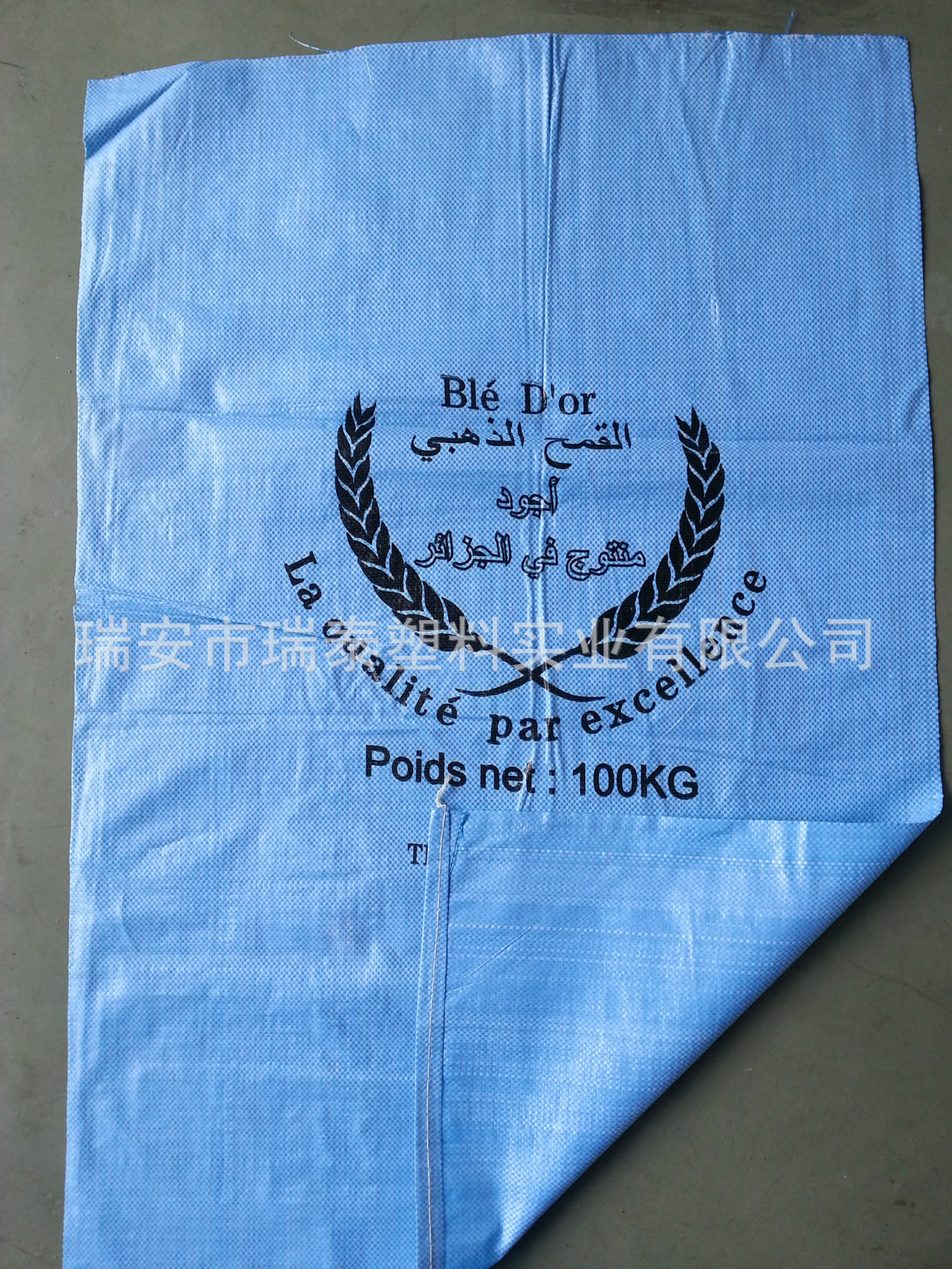塑料袋: (64, 35, 939, 1269)
